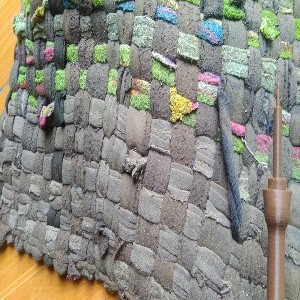solder: (262, 81, 293, 300)
